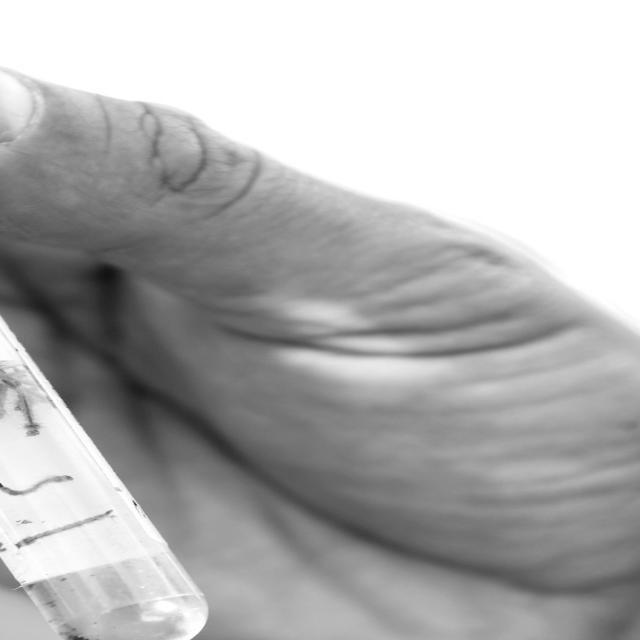larvas: (19, 511, 111, 550), (2, 374, 40, 437), (0, 475, 72, 498)
